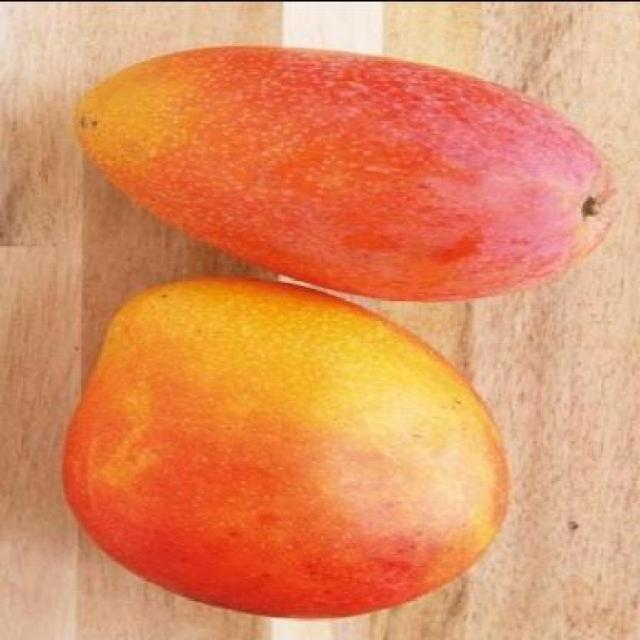Mango: (57, 276, 513, 618), (74, 39, 626, 306)
